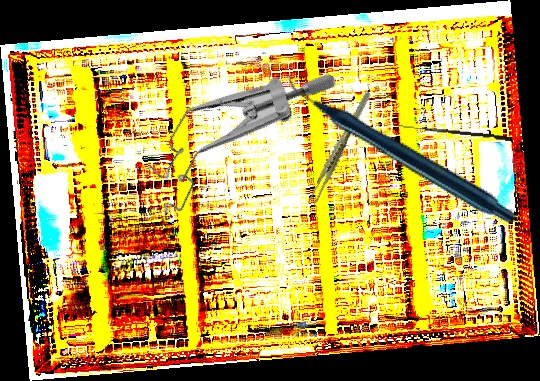Handpiece: (283, 12, 520, 283)
Hook Surgical: (397, 125, 511, 141)
Speculum: (131, 18, 340, 255)
Tissue Forceps: (289, 90, 391, 207)
